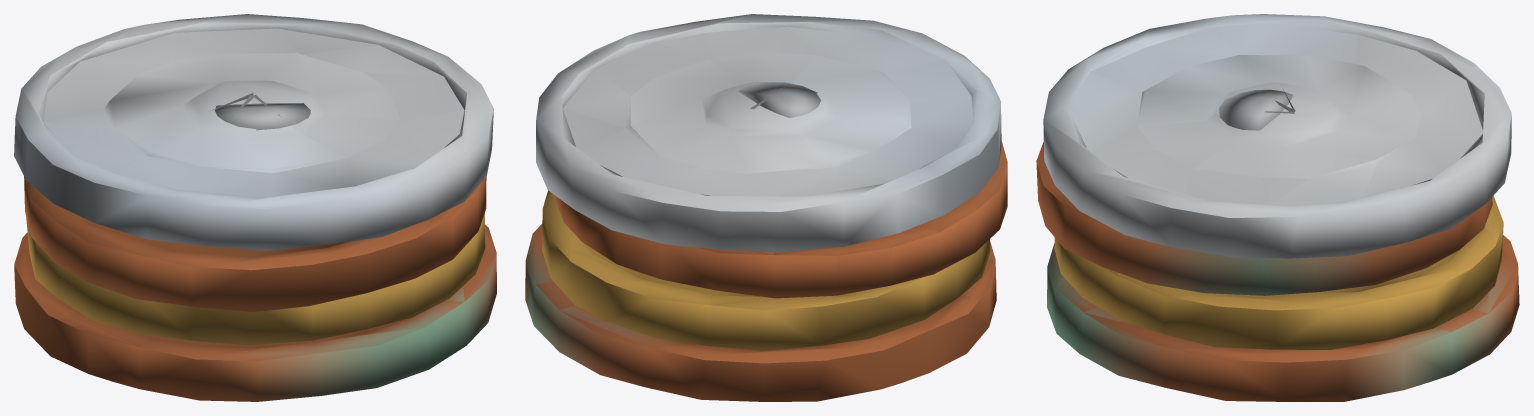
The model's file is grotto_coin_pile_lod1.glb.
3 renders of one model, left to right at view 1: azimuth 30°, elevation 25°; view 2: azimuth 150°, elevation 25°; view 3: azimuth 270°, elevation 25°, orthographic.
Parts seen in each view (by area): view 1: grotto_coin_pile.001; view 2: grotto_coin_pile.001; view 3: grotto_coin_pile.001.
Part boxes in pixels (x1,y1,x2,y2): grotto_coin_pile.001: [14, 14, 496, 401]; grotto_coin_pile.001: [525, 14, 1007, 401]; grotto_coin_pile.001: [1036, 14, 1519, 401].
Size of the model in its own units: 5.75 by 2.72 by 5.82.
